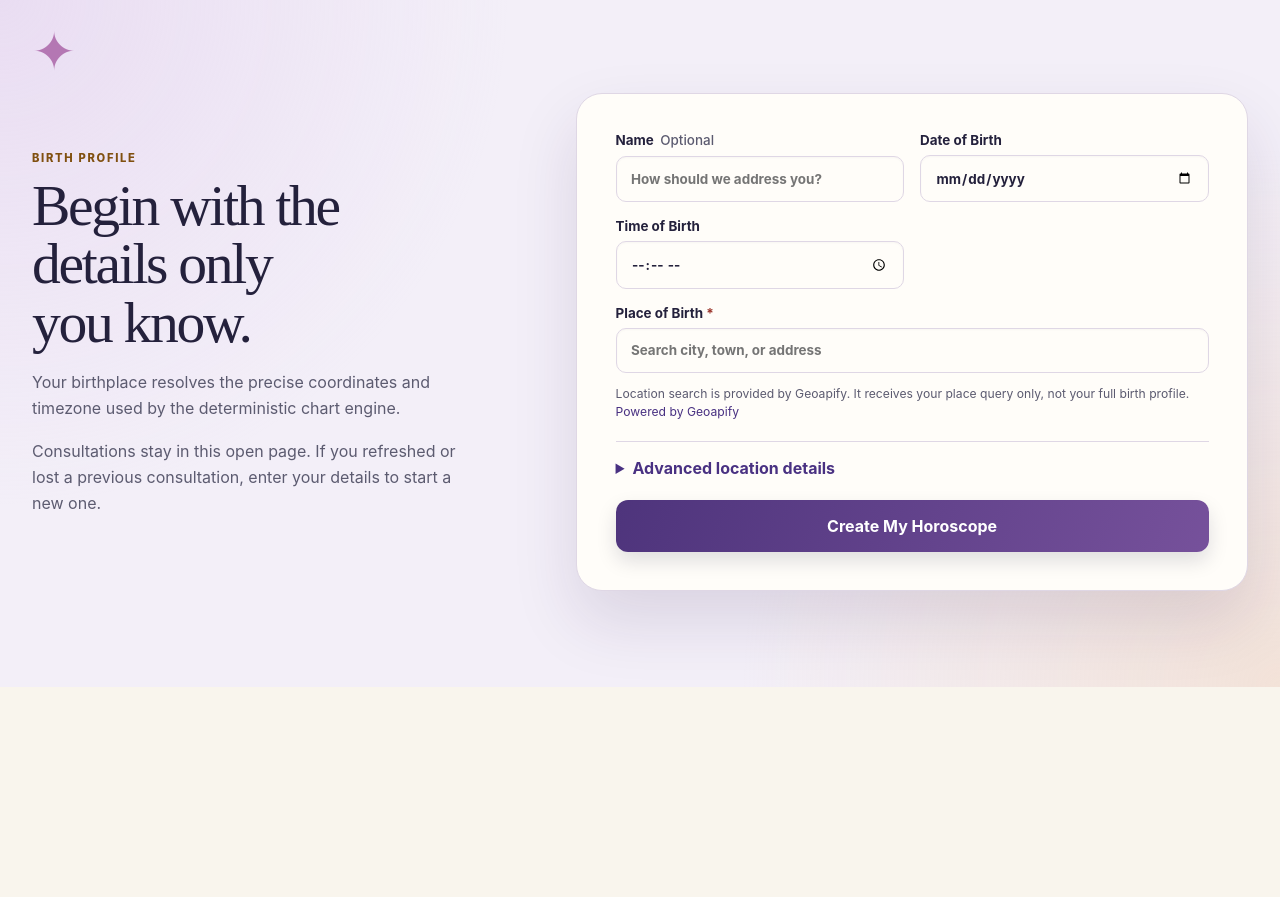
Test: birth profile visible validation › shows invalid as-of timezone and does not silently use browser time
Replace the text in the field named "As-of timezone" with "Invalid/Zone" at (912, 459), box [616, 440, 1209, 478]
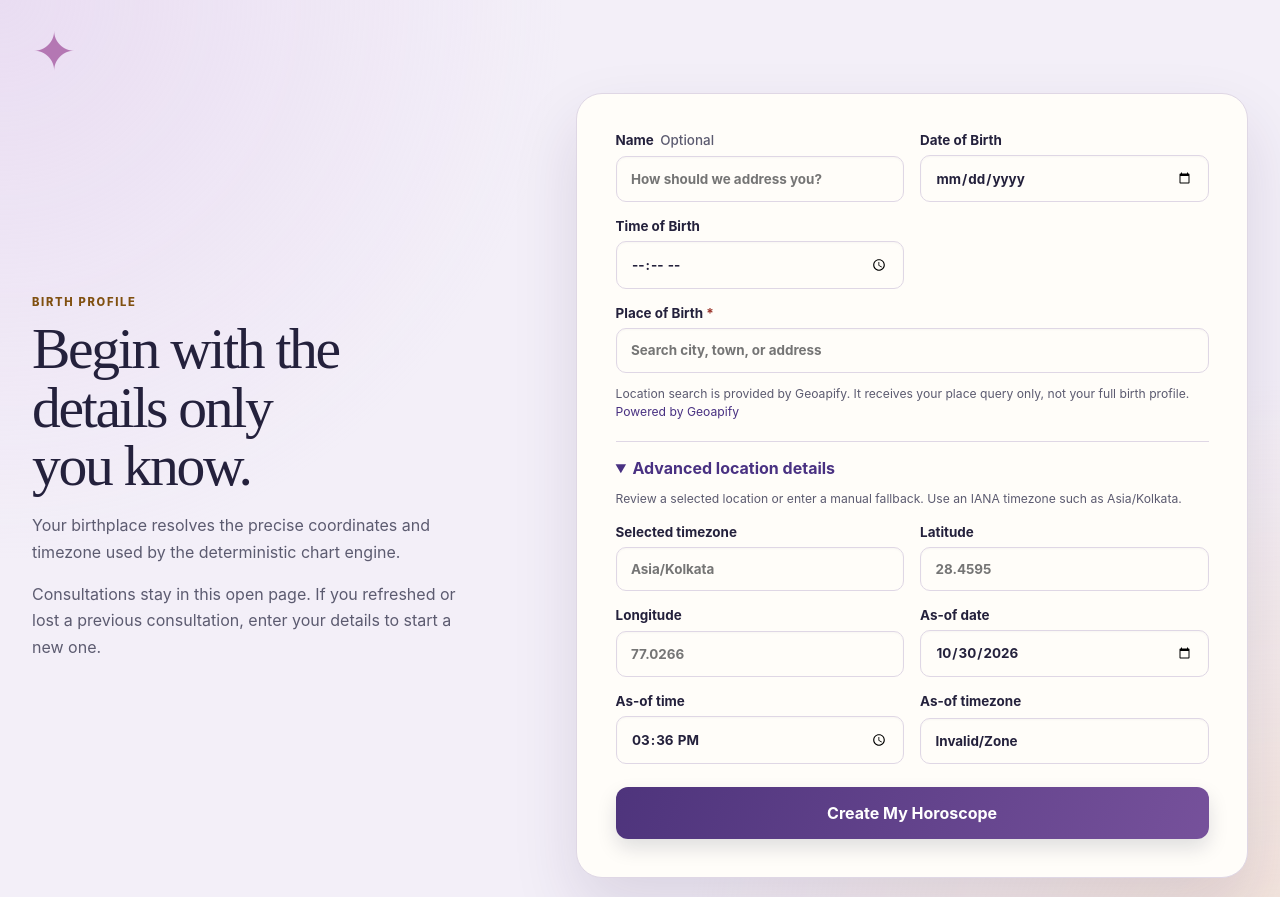
Click the button "Create My Horoscope".
click(912, 813)  # box [616, 787, 1209, 839]
(page scrolled)
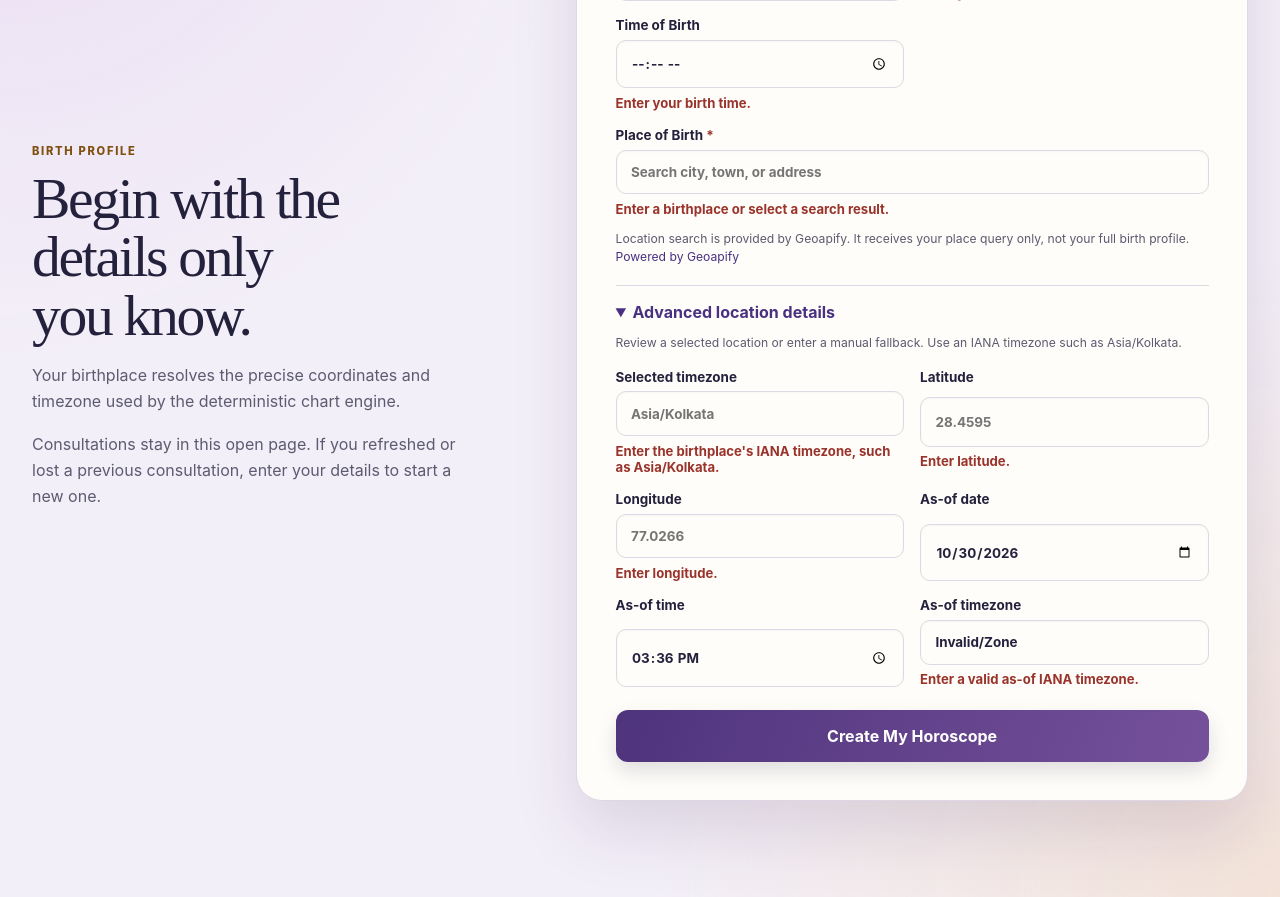
Check: the text "Enter a valid as-of IANA timezone." is shown, box [920, 671, 1139, 687]
